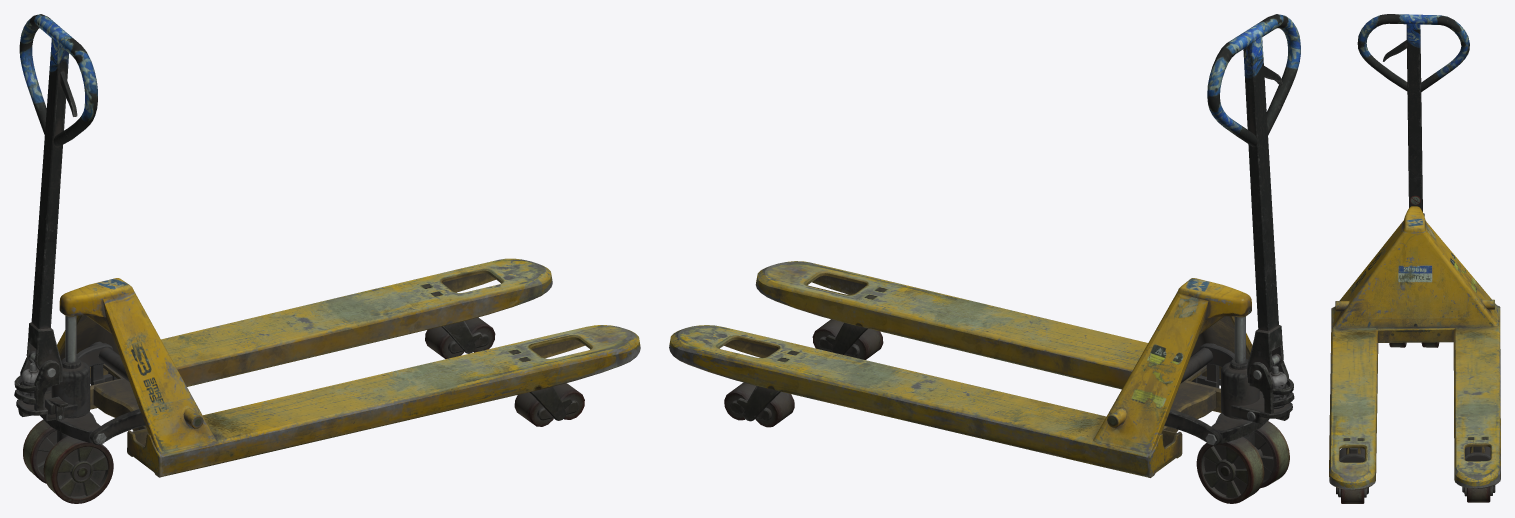
File: HandPalletTruck.glb
3 views of the same model, side by side, from view 1: azimuth 30°, elevation 25°; view 2: azimuth 150°, elevation 25°; view 3: azimuth 270°, elevation 25° (orthographic). The views are drawn at different scales.
Parts seen in each view (by area): view 1: hand_pallet_truck_low; view 2: hand_pallet_truck_low; view 3: hand_pallet_truck_low.
Part boxes in pixels (bbox=[...]): hand_pallet_truck_low: bbox=[14, 14, 640, 503]; hand_pallet_truck_low: bbox=[669, 14, 1300, 503]; hand_pallet_truck_low: bbox=[1329, 14, 1500, 503].
Size of the model in its own units: 1.59 by 1.23 by 0.5811.
1 material, 1 textured.
